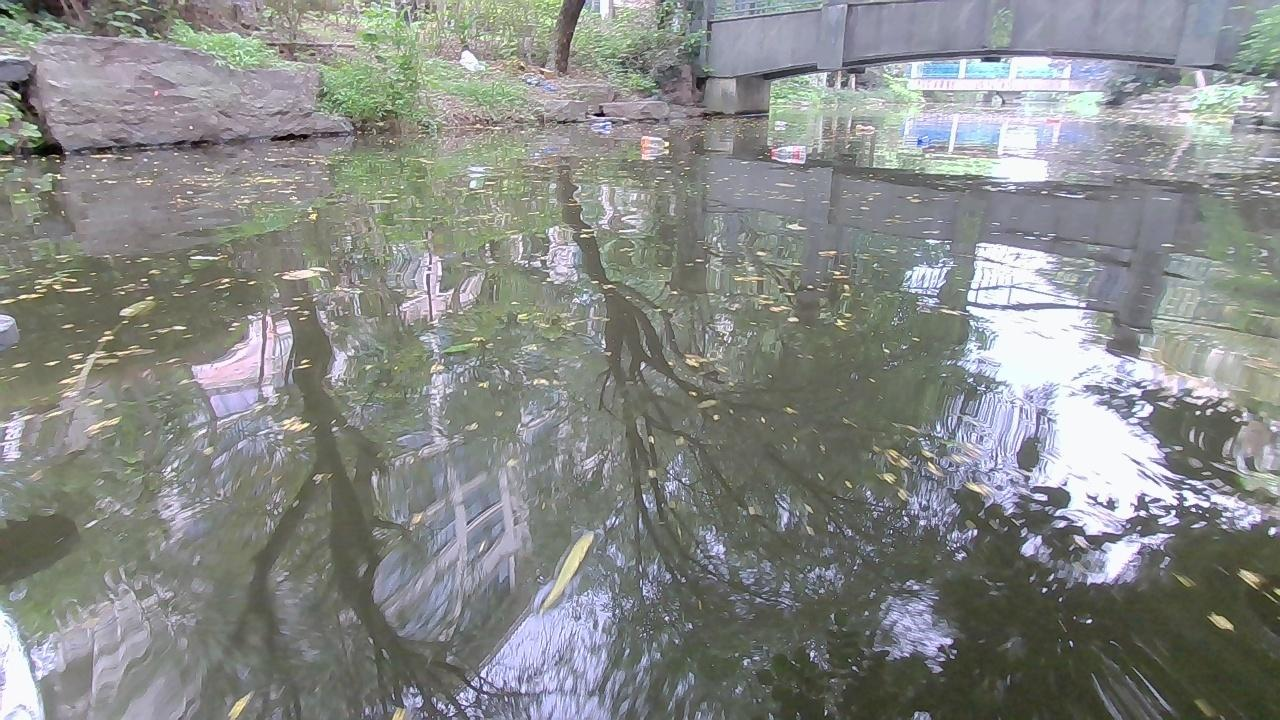bottle: (767, 144, 807, 161), (636, 132, 673, 150), (904, 136, 931, 149), (855, 122, 878, 133), (588, 120, 613, 128), (1044, 115, 1062, 125), (773, 120, 786, 129)
